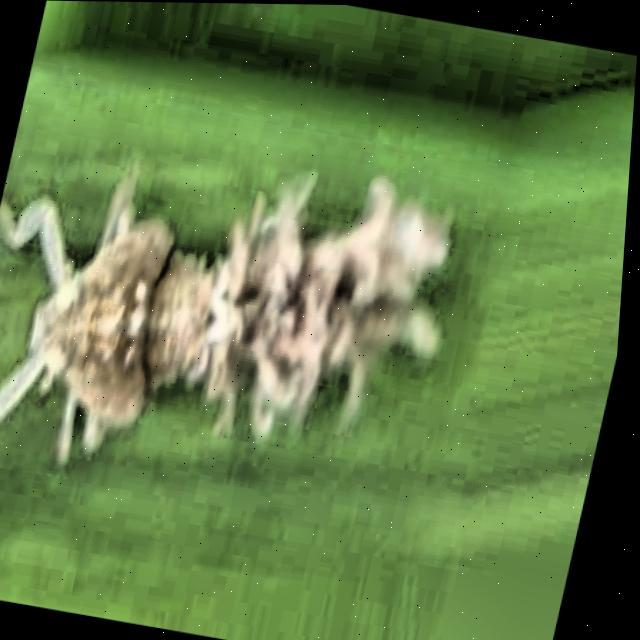Pyrilla-perpusilla: (0, 12, 586, 598)
